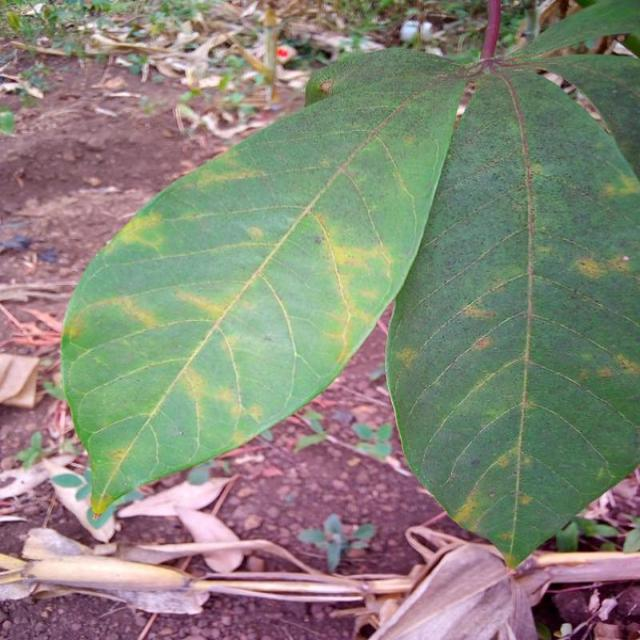cassava leaf: (59, 45, 472, 520), (383, 61, 639, 570)
